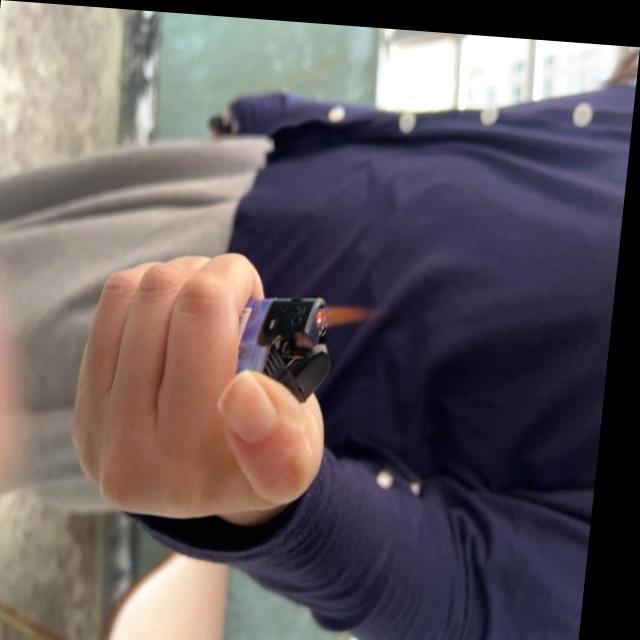fire: (317, 295, 385, 331)
